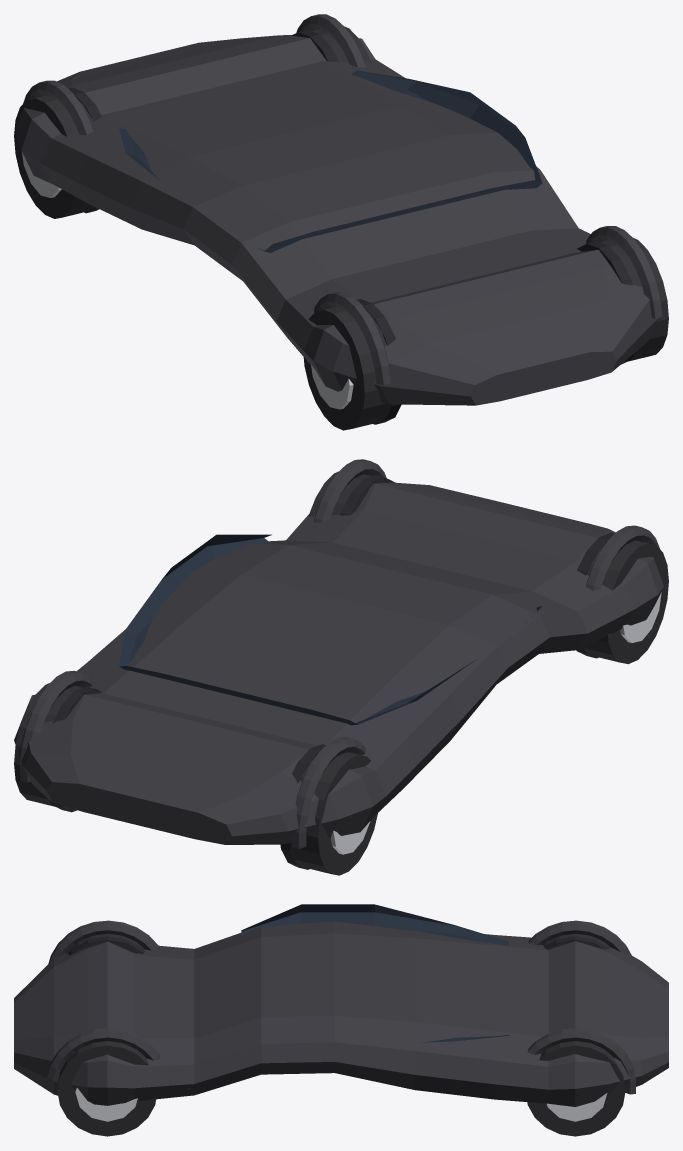
The model's file is police.glb.
The picture shows the model from 3 angles, top to bottom: view 1: azimuth 30°, elevation 25°; view 2: azimuth 150°, elevation 25°; view 3: azimuth 270°, elevation 25°; orthographic projection. The views are drawn at different scales.
Parts seen in each view (by area): view 1: body, glass_canopy, wheel_front_tyre.001, wheel_rear_tyre.001, body_arch.001, body_arch, wheel_front_tyre, body_arch.003, body_arch.002, wheel_front_rim.001, wheel_front_well, wheel_front_well.001 (+1 smaller); view 2: body, glass_canopy, wheel_rear_tyre.001, wheel_front_tyre.001, body_arch.003, body_arch.002, wheel_rear_tyre, body_arch.001, body_arch, wheel_front_tyre, wheel_front_rim.001, wheel_rear_well.001 (+1 smaller); view 3: body, glass_canopy, wheel_front_tyre, wheel_rear_tyre, body_arch, body_arch.002, body_arch.001, body_arch.003, wheel_front_rim, wheel_rear_rim, wheel_front_tyre.001, wheel_front_well.001 (+1 smaller).
Boxes of the visible parts, bbox=[...] form: body: bbox=[14, 35, 657, 405]; glass_canopy: bbox=[119, 70, 542, 252]; wheel_front_tyre.001: bbox=[303, 307, 391, 430]; wheel_rear_tyre.001: bbox=[14, 95, 94, 218]; body_arch.001: bbox=[314, 292, 390, 384]; body_arch: bbox=[586, 226, 662, 318]; wheel_front_tyre: bbox=[578, 238, 668, 361]; body_arch.003: bbox=[23, 80, 93, 134]; body_arch.002: bbox=[296, 14, 365, 67]; wheel_front_rim.001: bbox=[311, 364, 353, 409]; wheel_front_well: bbox=[577, 241, 634, 364]; wheel_front_well.001: bbox=[357, 299, 401, 424]; body: bbox=[14, 482, 663, 844]; glass_canopy: bbox=[119, 534, 541, 725]; wheel_rear_tyre.001: bbox=[290, 752, 377, 875]; wheel_front_tyre.001: bbox=[583, 540, 668, 664]; body_arch.003: bbox=[291, 737, 365, 848]; body_arch.002: bbox=[20, 670, 93, 782]; wheel_rear_tyre: bbox=[14, 683, 101, 810]; body_arch.001: bbox=[586, 525, 659, 590]; body_arch: bbox=[314, 459, 386, 522]; wheel_front_tyre: bbox=[308, 471, 390, 516]; wheel_front_rim.001: bbox=[620, 592, 661, 642]; wheel_rear_well.001: bbox=[280, 744, 325, 869]; body: bbox=[14, 921, 668, 1106]; glass_canopy: bbox=[241, 904, 508, 1042]; wheel_front_tyre: bbox=[57, 1041, 156, 1136]; wheel_rear_tyre: bbox=[527, 1041, 625, 1136]; body_arch: bbox=[47, 1028, 160, 1080]; body_arch.002: bbox=[527, 1028, 636, 1094]; body_arch.001: bbox=[48, 920, 160, 963]; body_arch.003: bbox=[528, 920, 631, 954]; wheel_front_rim: bbox=[75, 1088, 137, 1121]; wheel_rear_rim: bbox=[546, 1093, 607, 1121]; wheel_front_tyre.001: bbox=[67, 933, 144, 953]; wheel_front_well.001: bbox=[68, 936, 144, 955].
Size of the model in its own units: 2.16 by 0.8666 by 4.31.
